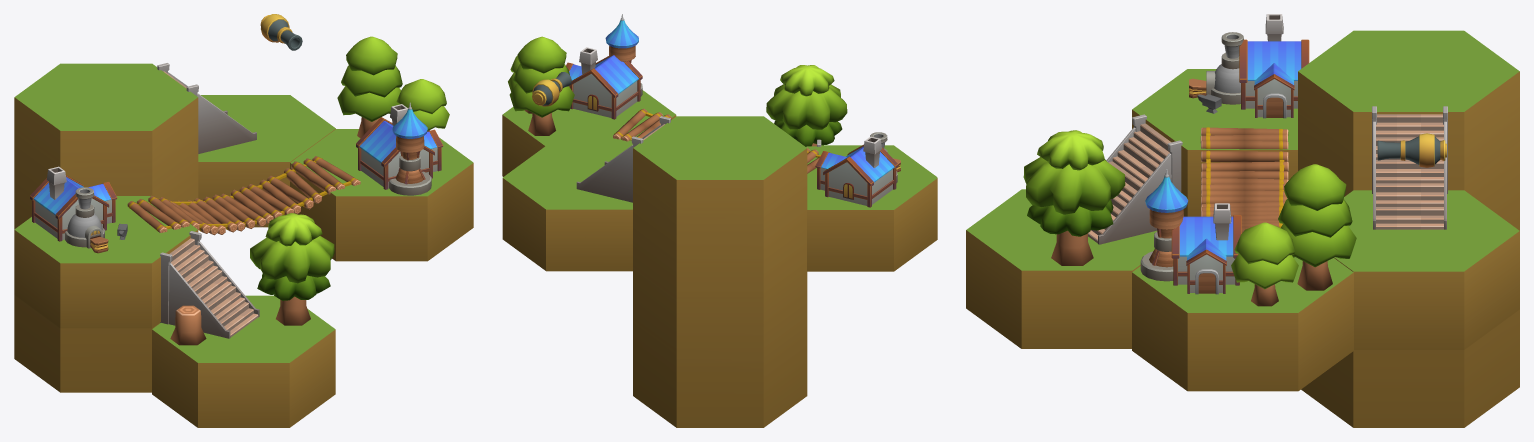
3 views of the same model, side by side, from view 1: azimuth 30°, elevation 25°; view 2: azimuth 150°, elevation 25°; view 3: azimuth 270°, elevation 25° (orthographic). The views are drawn at different scales.
Parts seen in each view (by area): view 1: Circle.006, Circle.018, Circle.007, Circle.016, Circle.009, Bridge, Tree1.001, Tower2.002, farmHouse, farmHouse.001, pine3.003, Tower2.001 (+3 smaller); view 2: Circle.006, Circle.009, Circle.007, Circle.016, farmHouse, Tree1.001, farmHouse.001, pine3.003, Tower2.001, Bridge, cannon; view 3: Circle.006, Circle.009, Circle.016, Circle.018, Tree1.001, farmHouse, Bridge, farmHouse.001, Tower2.001, Circle.007, pine3.003, Tower2.002 (+2 smaller).
Part boxes in pixels (bbox=[...]): Circle.006: bbox=[14, 63, 198, 392]; Circle.018: bbox=[152, 295, 335, 427]; Circle.007: bbox=[14, 196, 197, 328]; Circle.016: bbox=[290, 129, 473, 261]; Circle.009: bbox=[198, 95, 335, 227]; Bridge: bbox=[127, 156, 360, 235]; Tree1.001: bbox=[250, 213, 334, 325]; Tower2.002: bbox=[160, 231, 259, 338]; farmHouse: bbox=[356, 102, 443, 195]; farmHouse.001: bbox=[30, 166, 127, 253]; pine3.003: bbox=[337, 36, 402, 138]; Tower2.001: bbox=[157, 63, 256, 153]; Circle.006: bbox=[633, 116, 807, 427]; Circle.009: bbox=[502, 146, 632, 271]; Circle.007: bbox=[806, 146, 937, 271]; Circle.016: bbox=[502, 90, 676, 176]; farmHouse: bbox=[566, 14, 642, 119]; Tree1.001: bbox=[766, 65, 847, 146]; farmHouse.001: bbox=[815, 132, 900, 207]; pine3.003: bbox=[509, 36, 574, 135]; Tower2.001: bbox=[576, 116, 670, 202]; Bridge: bbox=[613, 108, 820, 173]; cannon: bbox=[532, 72, 571, 106]; Circle.006: bbox=[1298, 30, 1519, 427]; Circle.009: bbox=[1334, 190, 1519, 349]; Circle.016: bbox=[1132, 257, 1353, 391]; Circle.018: bbox=[966, 189, 1157, 348]; Tree1.001: bbox=[1023, 130, 1125, 265]; farmHouse: bbox=[1140, 169, 1241, 294]; Bridge: bbox=[1200, 127, 1288, 233]; farmHouse.001: bbox=[1189, 14, 1309, 118]; Tower2.001: bbox=[1372, 106, 1447, 229]; Circle.007: bbox=[1132, 69, 1297, 216]; pine3.003: bbox=[1278, 164, 1356, 290]; Tower2.002: bbox=[1088, 114, 1182, 244].
Size of the model in its own units: 6.67 by 4.5 by 6.34.
1 material, 1 textured.
